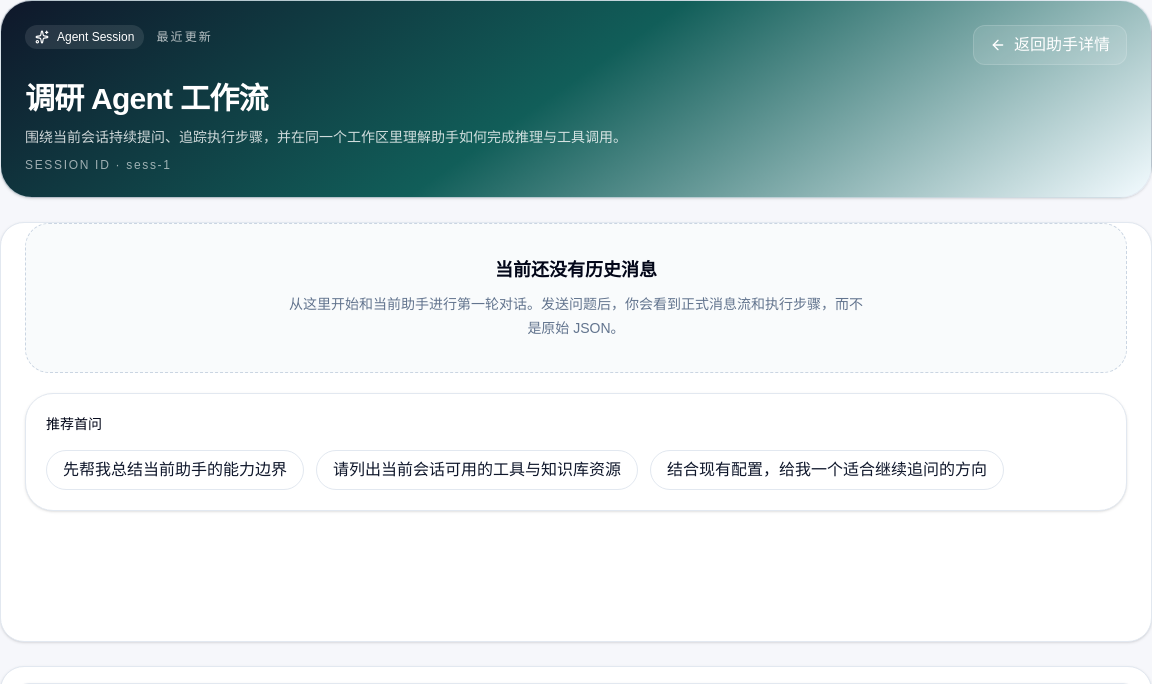
Test: ChatRoute formal workspace › fills and focuses composer after picking a starter prompt
Click the button "先帮我总结当前助手的能力边界" at (175, 470), box [46,450,304,490]
(page scrolled)
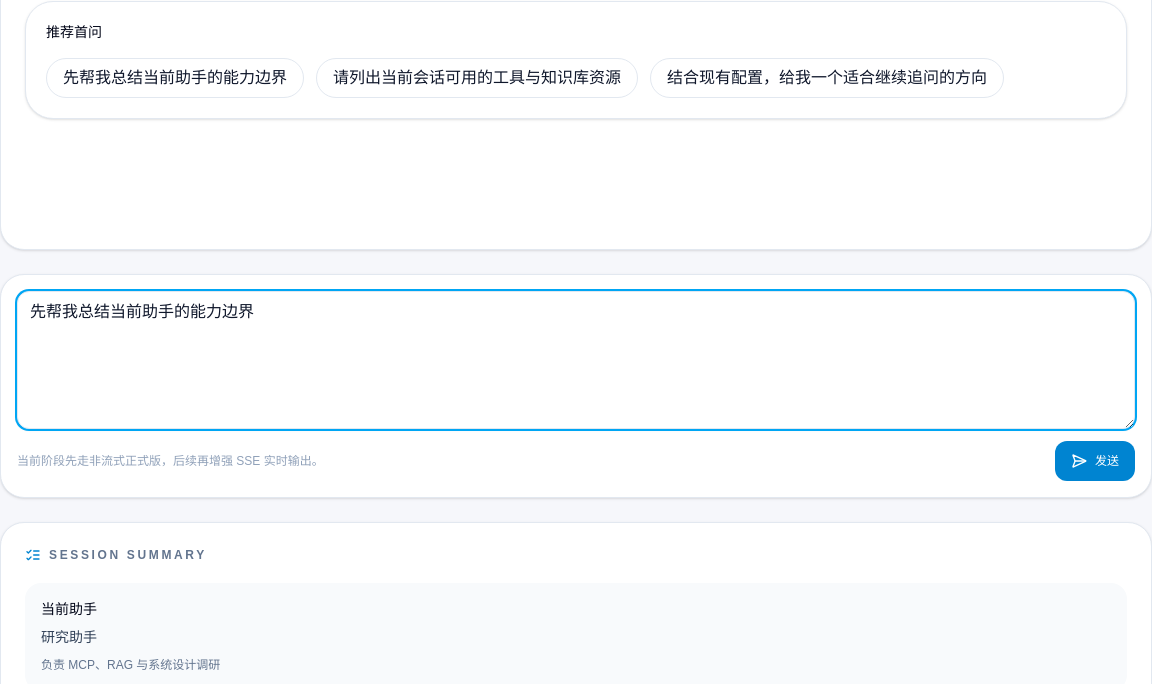
Now the text box with placeholder "继续向当前助手提问..." holds "先帮我总结当前助手的能力边界", box [17,291,1135,429]
